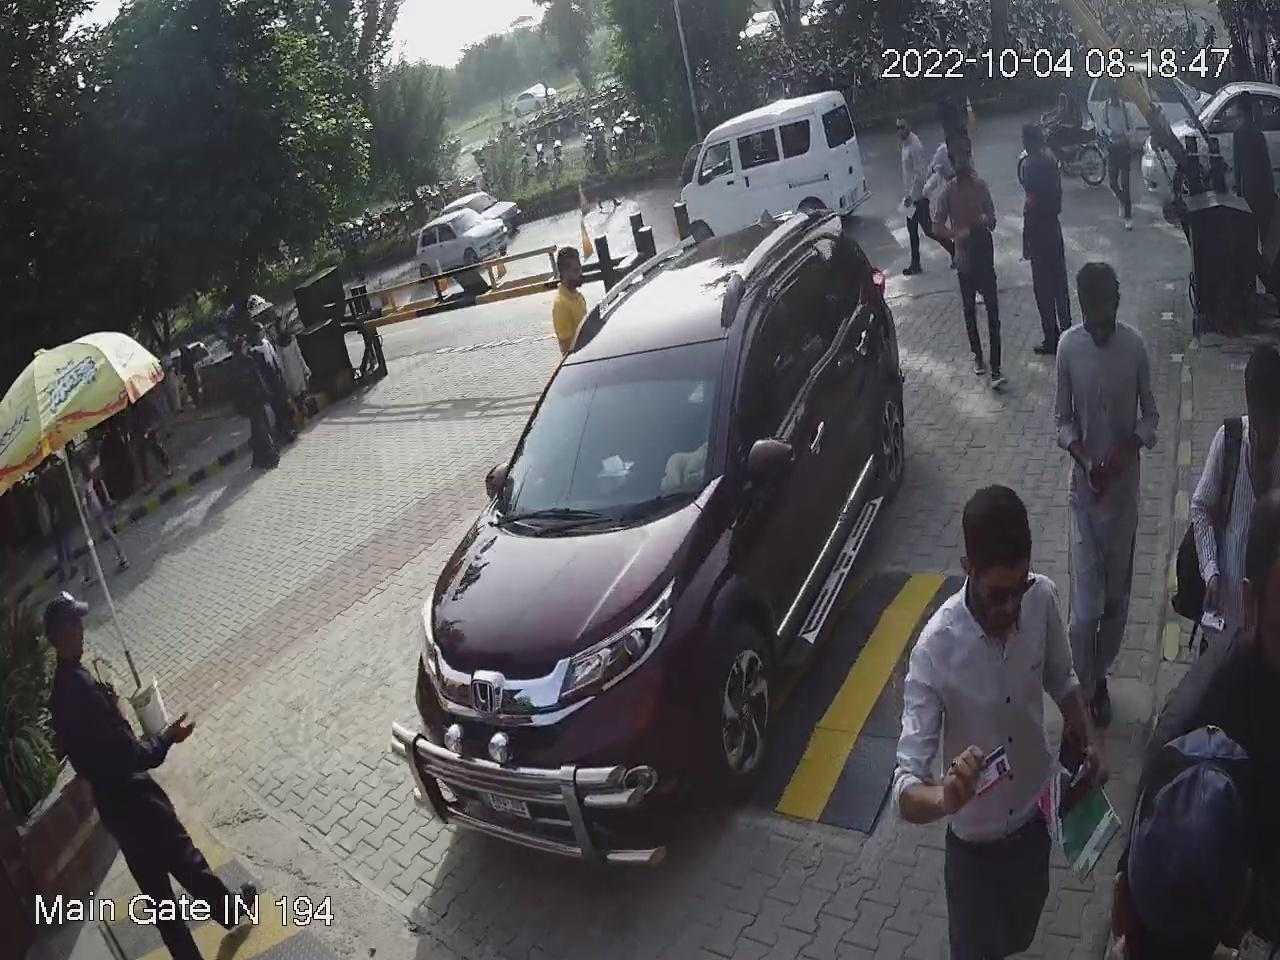windshield: (493, 333, 738, 500)
